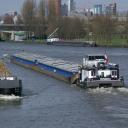tugboat: (76, 54, 127, 92)
